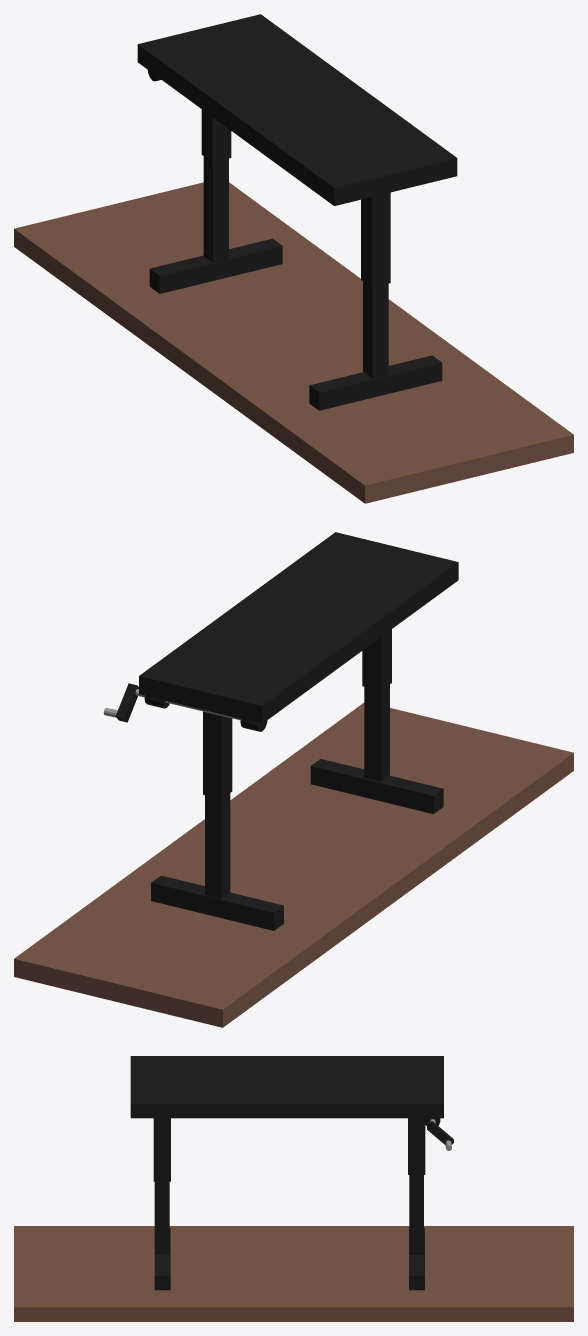
File: desk.glb
The picture shows the model from 3 angles, top to bottom: view 1: azimuth 30°, elevation 25°; view 2: azimuth 150°, elevation 25°; view 3: azimuth 270°, elevation 25°; orthographic projection. The views are drawn at different scales.
Visible parts, largest first — view 1: group1924476119, group1077533398, group1534886875, group1412264498, group1126225030, group992871100, group880870465, group1196067630; view 2: group1924476119, group1077533398, group1534886875, group1412264498, group992871100, group1196067630, group880870465, group1126225030; view 3: group1924476119, group1077533398, group992871100, group880870465, group1126225030, group1196067630, group1534886875, group1412264498.
Boxes of the visible parts, <box> form: group1924476119: <box>14,182,573,503</box>; group1077533398: <box>137,14,457,205</box>; group1534886875: <box>309,355,442,410</box>; group1412264498: <box>149,238,282,293</box>; group1126225030: <box>361,192,390,287</box>; group992871100: <box>203,156,228,262</box>; group880870465: <box>363,281,388,378</box>; group1196067630: <box>201,109,231,162</box>; group1924476119: <box>14,702,573,1027</box>; group1077533398: <box>139,532,458,723</box>; group1534886875: <box>310,758,443,813</box>; group1412264498: <box>151,875,283,930</box>; group992871100: <box>205,793,230,899</box>; group1196067630: <box>203,711,232,799</box>; group880870465: <box>364,684,389,781</box>; group1126225030: <box>362,629,391,690</box>; group1924476119: <box>14,1226,573,1321</box>; group1077533398: <box>130,1056,443,1118</box>; group992871100: <box>409,1175,423,1254</box>; group880870465: <box>154,1181,169,1254</box>; group1126225030: <box>153,1118,170,1181</box>; group1196067630: <box>408,1118,425,1174</box>; group1534886875: <box>154,1228,170,1290</box>; group1412264498: <box>409,1228,424,1290</box>.
Size of the model in its own units: 0.9632 by 1.11 by 2.8.
